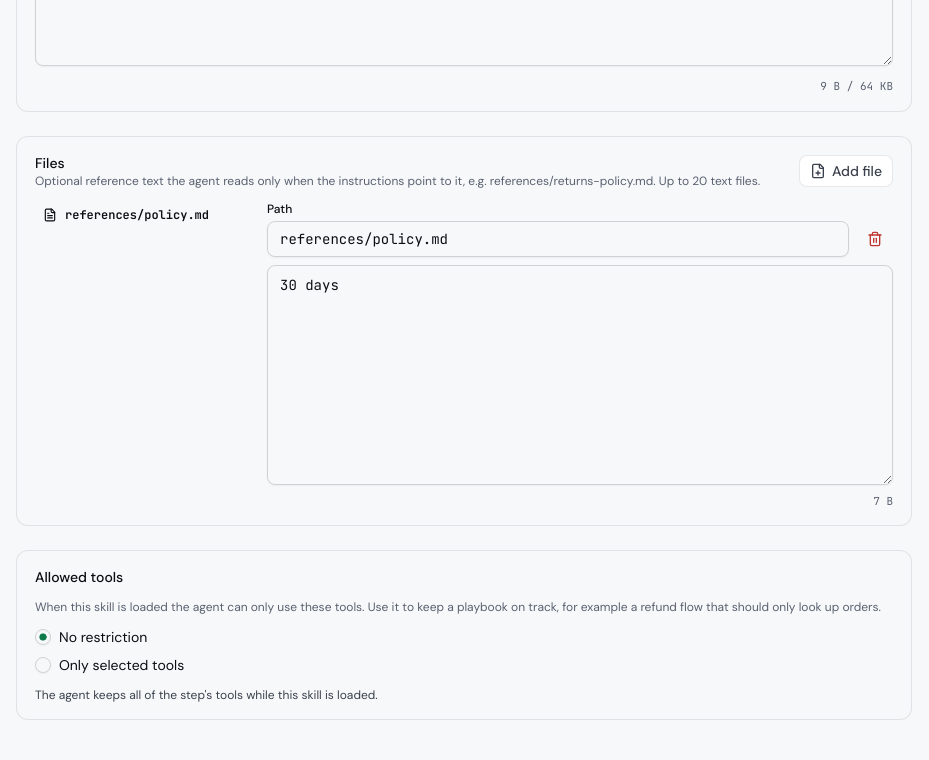
Scenario: WorkspaceSkillEditor › saves only changed fields, including an empty tool allowlist
(page scrolled)
Click the radio button named "Only selected tools" next to "Only selected tools".
click(43, 665)  # box [35,657,51,673]
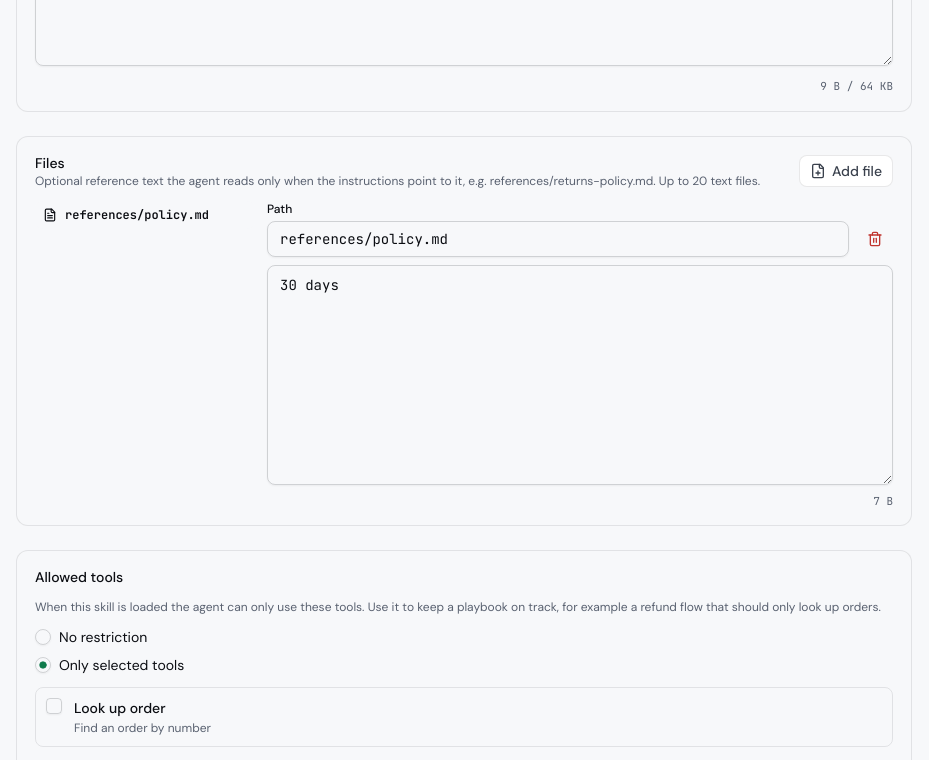
Click the checkbox named "Look up order".
click(54, 706)  # box [46,698,62,714]
(page scrolled)
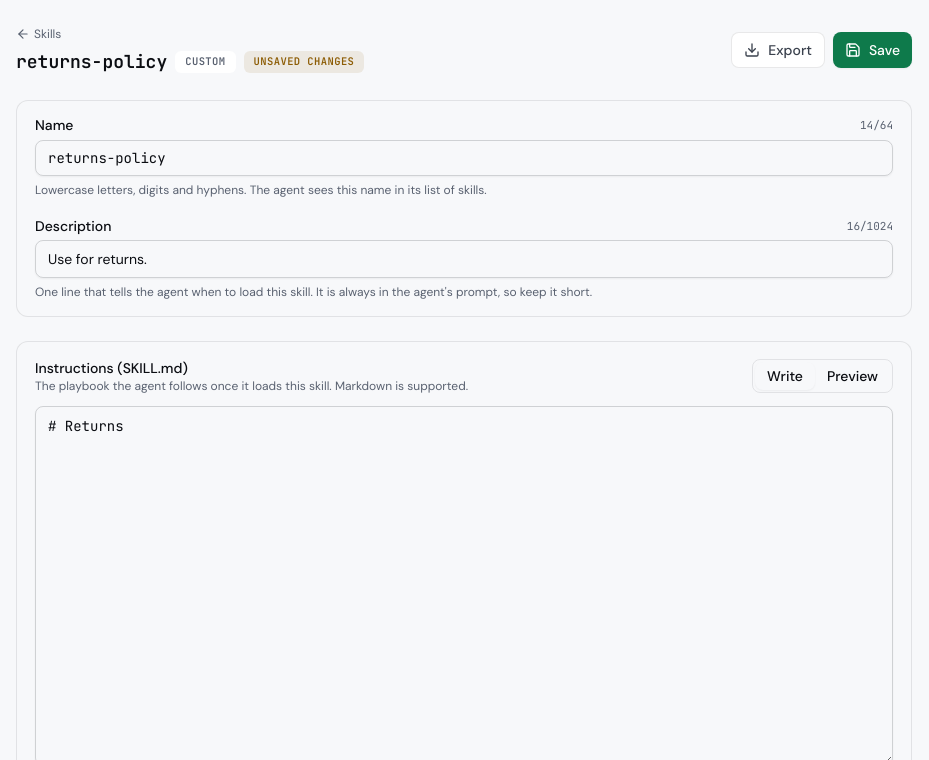
Expected: the text "Unsaved changes" is shown, [244,51,364,73]
Click the button "Save".
click(872, 50)  # box [833,32,912,68]
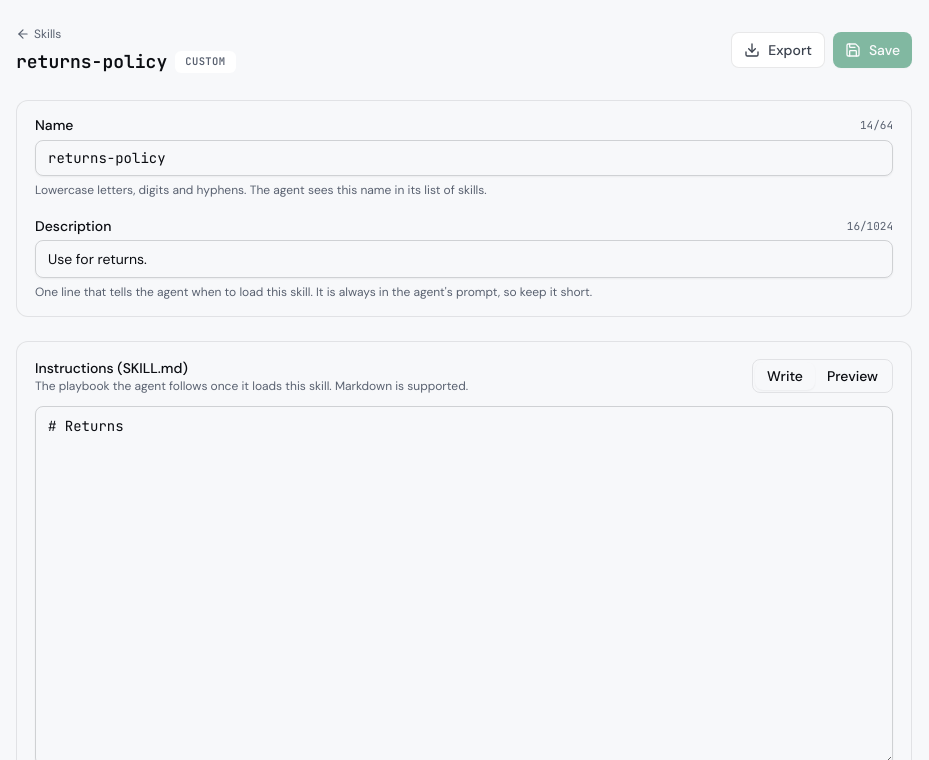
Expected: the text "Unsaved changes" is gone
